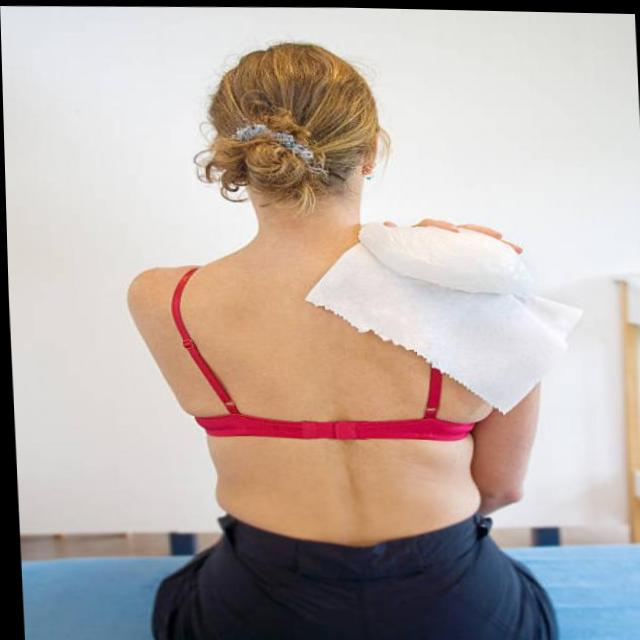no helmet: (199, 29, 381, 214)
